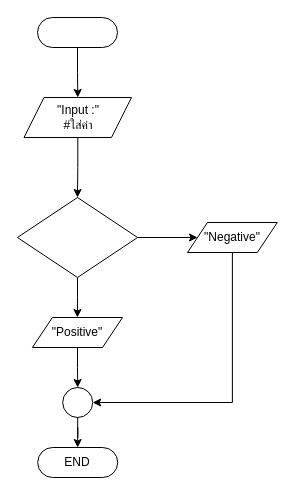
This 295x495 diagram has some shape labels left out. The box of each missing label's shape, as (x1, y1, x2, y2) in pixels:
START: (36, 16, 118, 48)
ถ้า ค่าที่ได้ >= 0: (16, 196, 138, 278)
